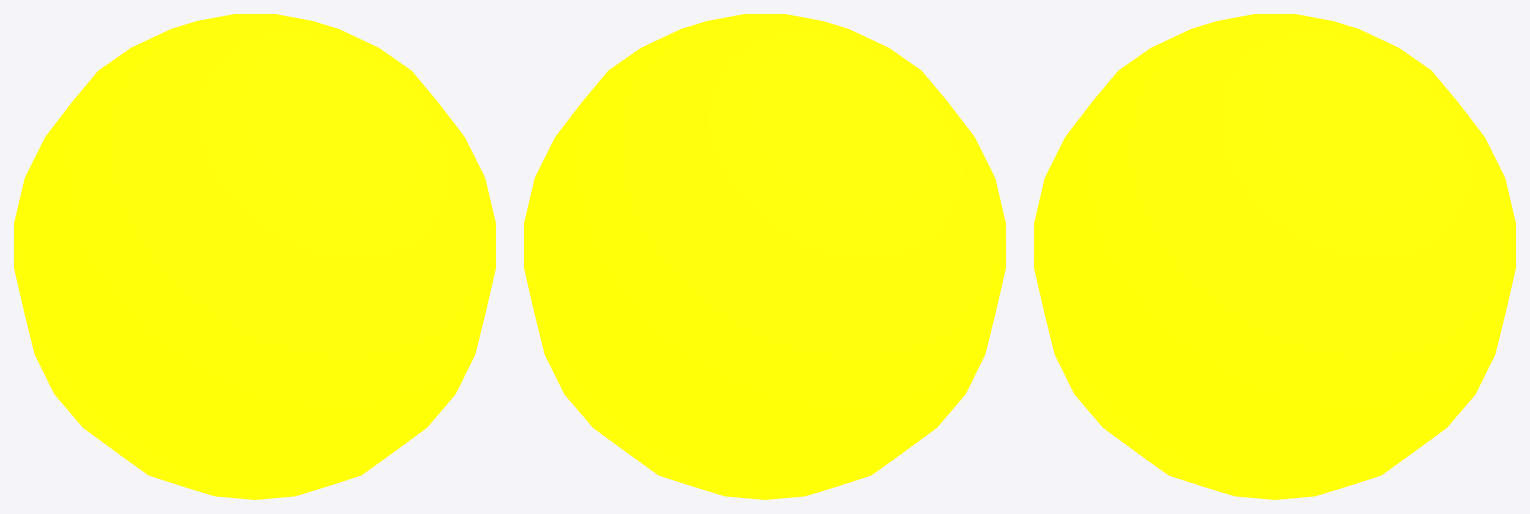
File: pick_up_item.gltf
The picture shows the model from 3 angles, left to right: view 1: azimuth 30°, elevation 25°; view 2: azimuth 150°, elevation 25°; view 3: azimuth 270°, elevation 25°; orthographic projection.
Parts seen in each view (by area): view 1: pick_up_item; view 2: pick_up_item; view 3: pick_up_item.
Part boxes in pixels (x1=…): pick_up_item: x1=14, y1=14, x2=495, y2=499; pick_up_item: x1=524, y1=14, x2=1005, y2=499; pick_up_item: x1=1034, y1=14, x2=1515, y2=499.
Bounding box in the file's own units: 0.3421 × 0.3478 × 0.344.
